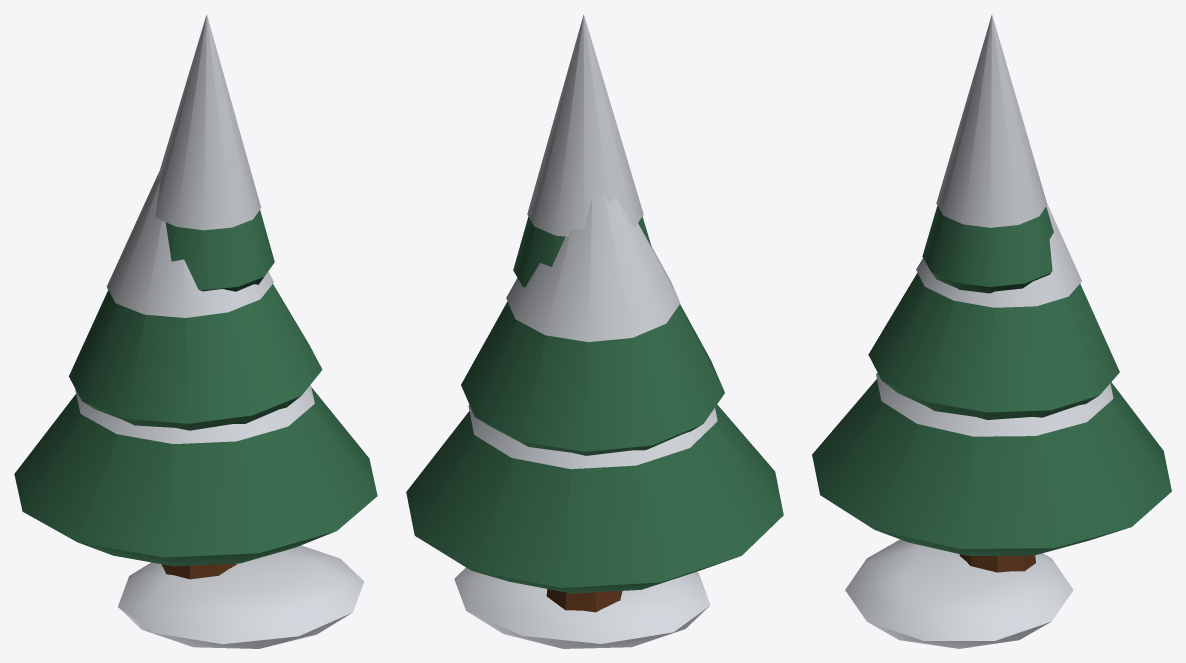
Rendered from p_tree_snowpine_1.glb.
The picture shows the model from 3 angles, left to right: view 1: azimuth 30°, elevation 25°; view 2: azimuth 150°, elevation 25°; view 3: azimuth 270°, elevation 25°; orthographic projection. The views are drawn at different scales.
Visible parts, largest first — view 1: body; view 2: body; view 3: body.
Part boxes in pixels (box(x1,y1,x2,y2)): body: box(14, 14, 377, 648); body: box(406, 14, 783, 648); body: box(812, 14, 1171, 648).
Size of the model in its own units: 2.84 by 5.15 by 2.83.
